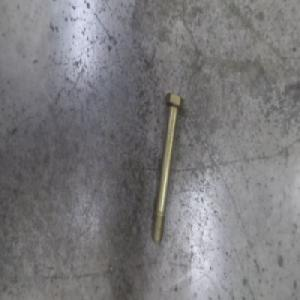Bolt: (150, 91, 184, 245)
